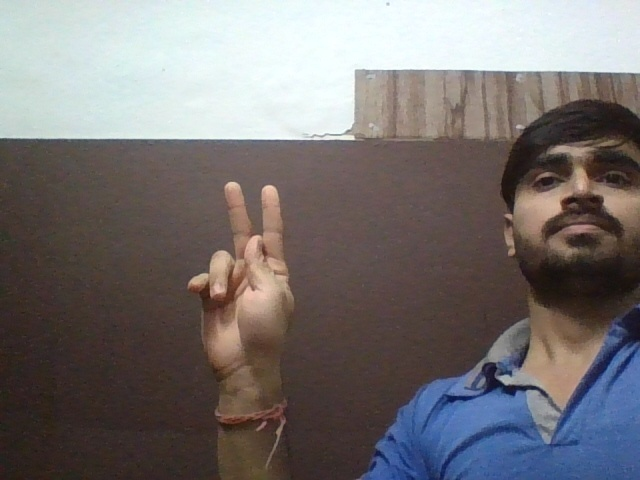K: (180, 173, 313, 380)
